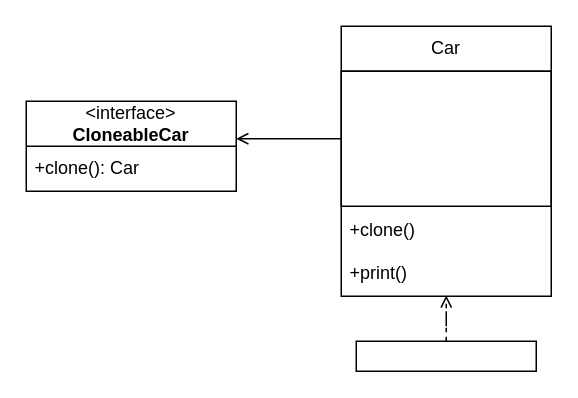
Some shapes in this 578 by 398 pixel diagram are drawn without their labels. Here are the shapes that lost their labels. From the top down, the centre of each, then its label:
point 445,138: company model engineL
point 445,355: PrototypeClient
